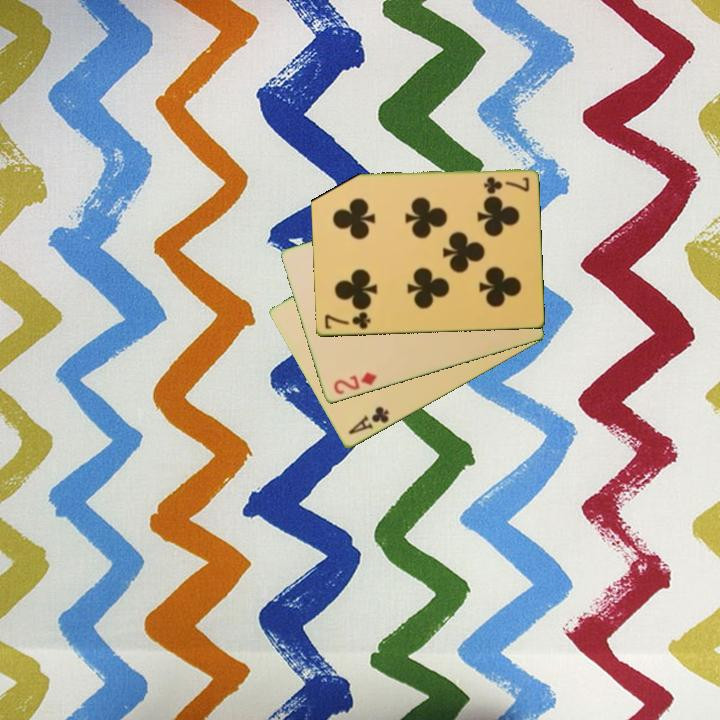2d: (330, 369, 380, 398)
7c: (321, 309, 373, 332), (480, 174, 532, 195)
Ac: (345, 403, 392, 438)
